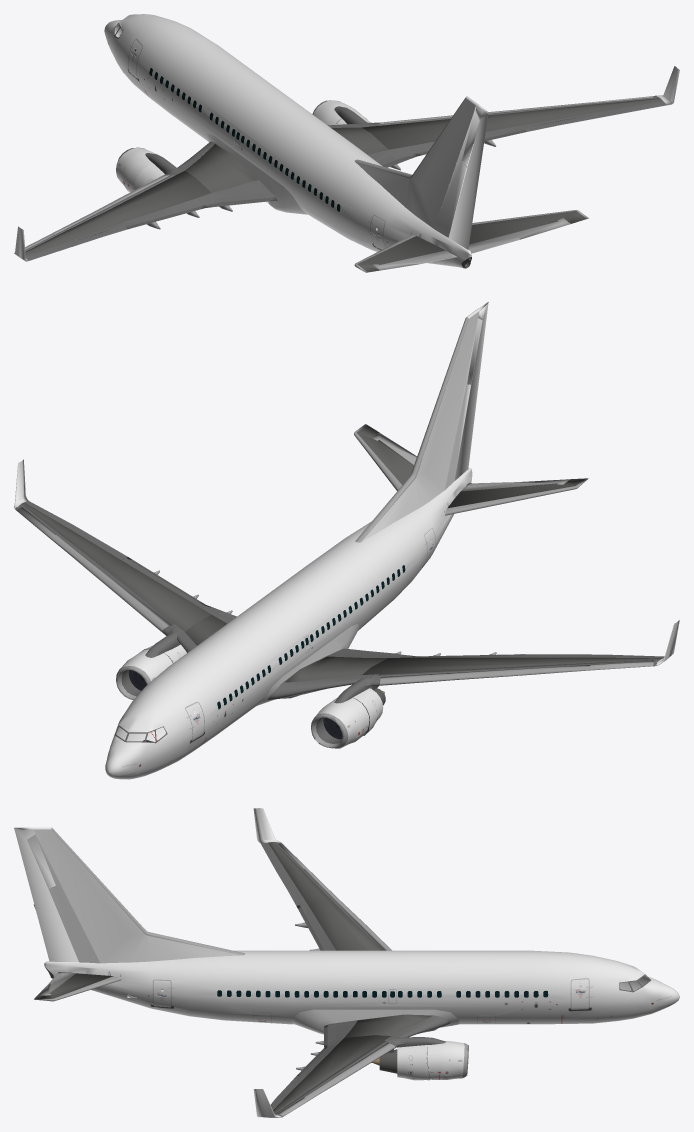
3 renders of one model, top to bottom at view 1: azimuth 30°, elevation 25°; view 2: azimuth 150°, elevation 25°; view 3: azimuth 270°, elevation 25°, orthographic. The views are drawn at different scales.
Parts seen in each view (by area): view 1: rootNode; view 2: rootNode; view 3: rootNode.
Part boxes in pixels (bbox=[...]): rootNode: bbox=[14, 14, 679, 272]; rootNode: bbox=[14, 301, 679, 779]; rootNode: bbox=[14, 808, 679, 1117].
Bounding box in the file's own units: 34.85 × 12.08 × 34.93.
Materials: 5 (5 with a texture image).
